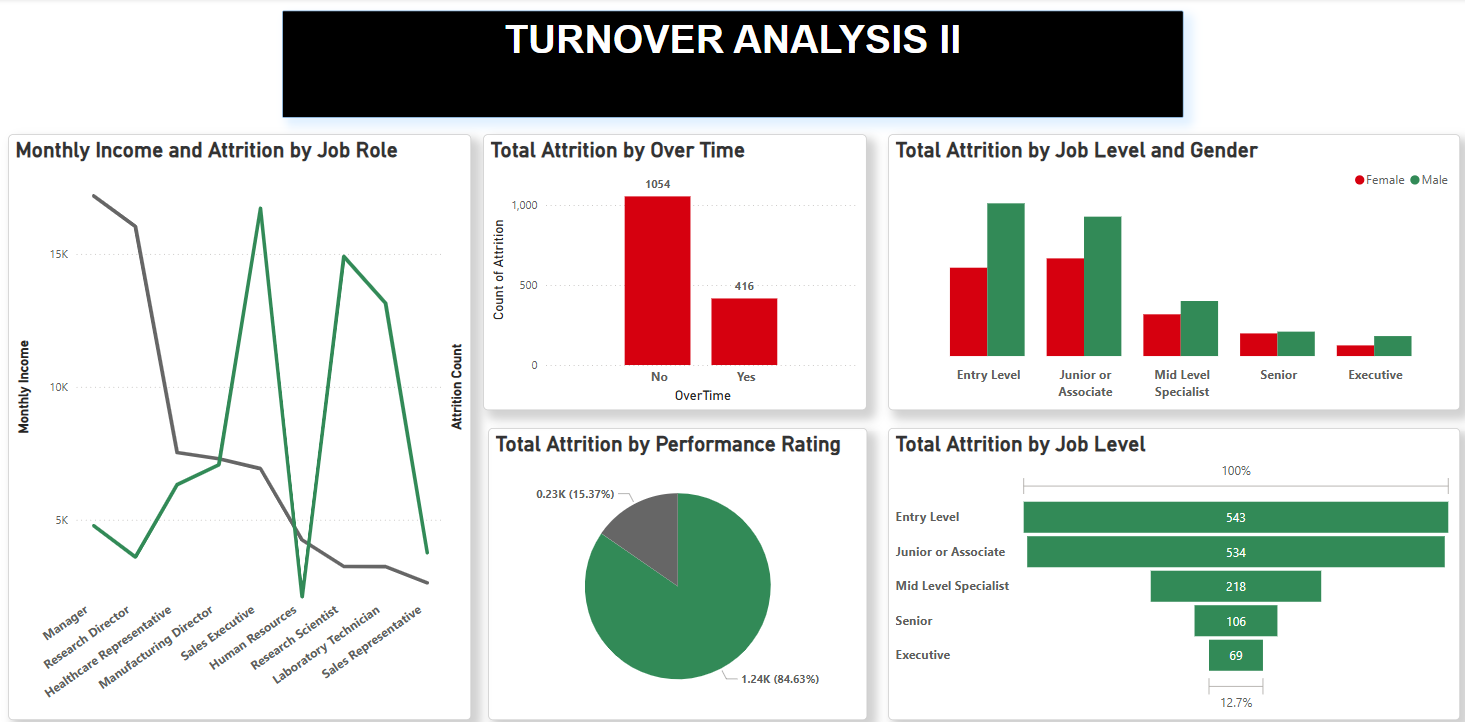

The page's visual inventory and layout, read from the dashboard file:
{"tool":"powerbi","page":{"name":"Page 4","canvas":[1600,800],"ordinal":3},"visuals":[{"type":"textbox","box":[309.8,13.6,979.6,116.8],"z":0},{"type":"clusteredColumnChart","title":"Total Attrition by Job Level and Gender","fields":{"Series":["HR-Employee-Attrition.Gender"],"Y":["CountNonNull(HR-Employee-Attrition.Attrition)"],"Category":["HR-Employee-Attrition.JobLevel (list)"]},"box":[969.3,148.3,621.7,299.6],"z":1000},{"type":"pieChart","title":"Total Attrition by Performance Rating","fields":{"Y":["CountNonNull(HR-Employee-Attrition.Attrition)"],"Category":["HR-Employee-Attrition.PerformanceRating"]},"box":[533.3,467.4,412,317.6],"z":2000},{"type":"funnel","title":"Total Attrition by Job Level ","fields":{"Category":["HR-Employee-Attrition.JobLevel (list)"],"Y":["CountNonNull(HR-Employee-Attrition.Attrition)"]},"box":[969.3,467.4,621.7,317.6],"z":3000},{"type":"lineChart","title":"Monthly Income and Attrition by Job Role","fields":{"Category":["HR-Employee-Attrition.JobRole"],"Y":["Avg(HR-Employee-Attrition.MonthlyIncome)"],"Y2":["CountNonNull(HR-Employee-Attrition.Attrition)"]},"box":[12,148.3,503.4,636.7],"z":4000},{"type":"clusteredColumnChart","title":"Total Attrition by Over Time","fields":{"Y":["CountNonNull(HR-Employee-Attrition.Attrition)"],"Category":["HR-Employee-Attrition.OverTime"]},"box":[528.8,148.3,416.5,299.6],"z":4001}]}

Visuals, with their boxes in screenshot pixels (x1, y1, x2, y2), scaled from the page's 1600x800 canvas onto the 1465x722 screenshot:
textbox: x1=284 y1=12 x2=1181 y2=118
"Total Attrition by Job Level and Gender" clusteredColumnChart: x1=888 y1=134 x2=1457 y2=404
"Total Attrition by Performance Rating" pieChart: x1=488 y1=422 x2=866 y2=708
"Total Attrition by Job Level " funnel: x1=888 y1=422 x2=1457 y2=708
"Monthly Income and Attrition by Job Role" lineChart: x1=11 y1=134 x2=472 y2=708
"Total Attrition by Over Time" clusteredColumnChart: x1=484 y1=134 x2=866 y2=404
